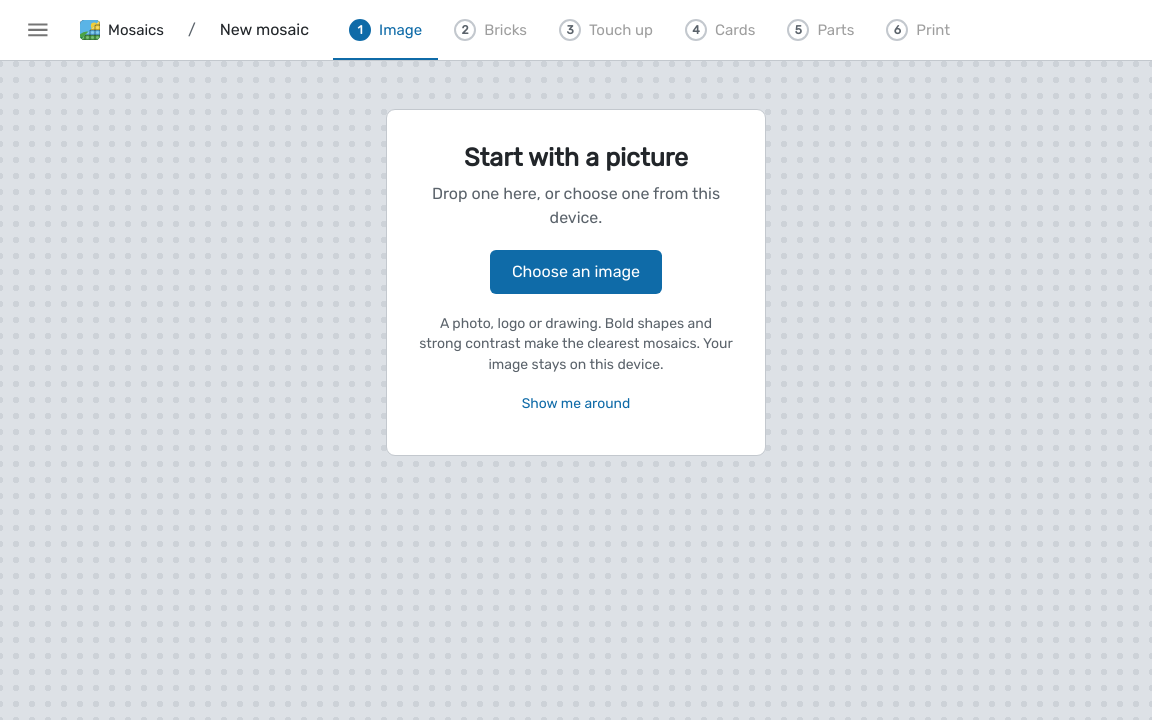
Test: Theme in ☰ › applies each choice at once, with no toast, and keeps the menu open to compare
The width and height of the screenshot is (1152, 720).
Click the button named "Menu": [38, 30] box [16,8,60,52]
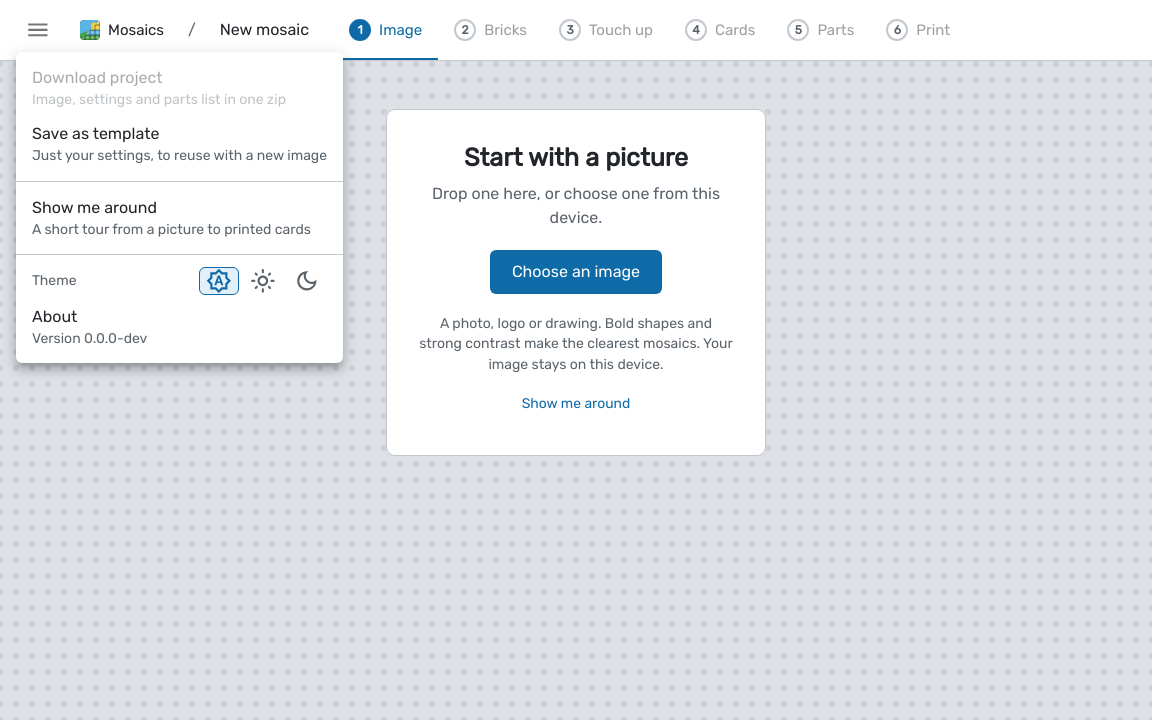
Click the menu item named "Dark": [307, 281] box [294,268,320,294]
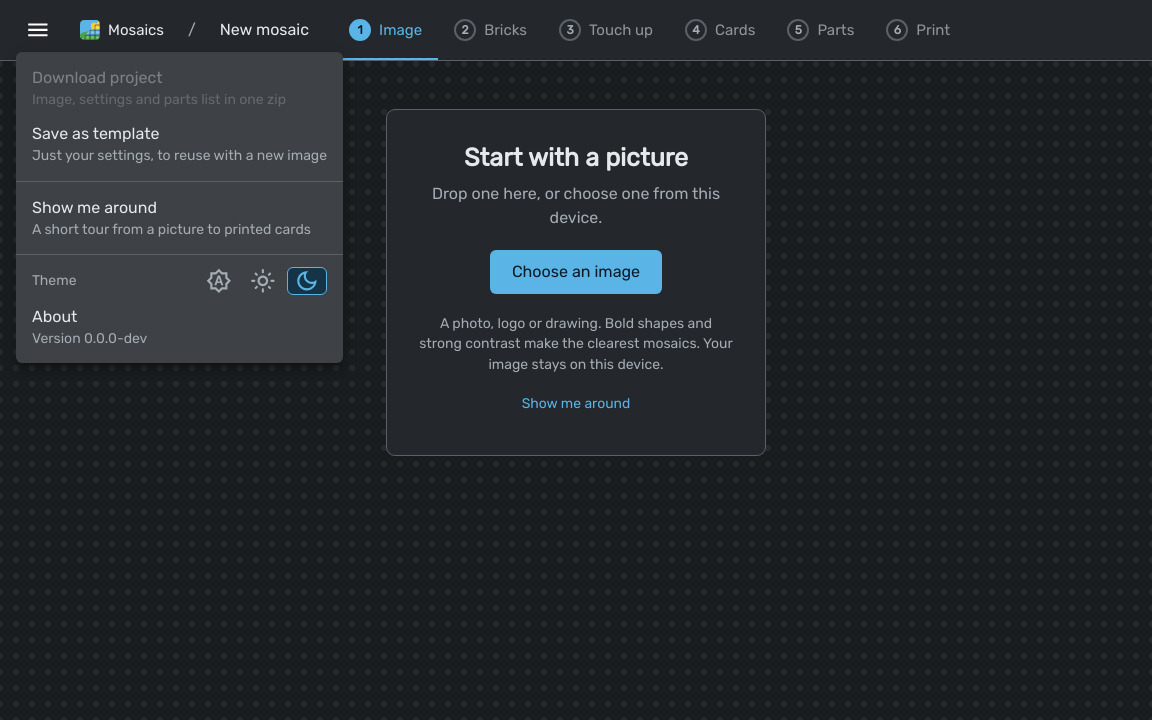
expect the menu is shown: met, box [16,52,343,363]
Click the menu item named "Light": [263, 281] box [250,268,276,294]
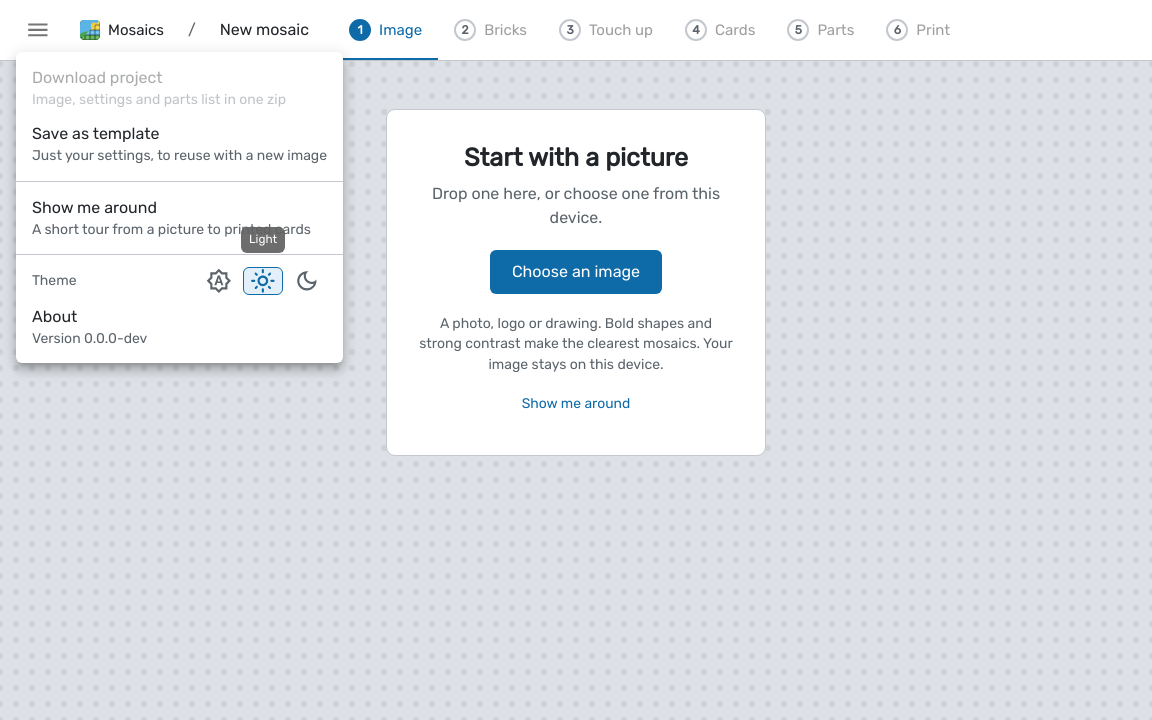
expect the menu item named "Light" is checked: met, box [243,267,283,295]
Click the menu item named "Auto": [219, 281] box [206,268,232,294]
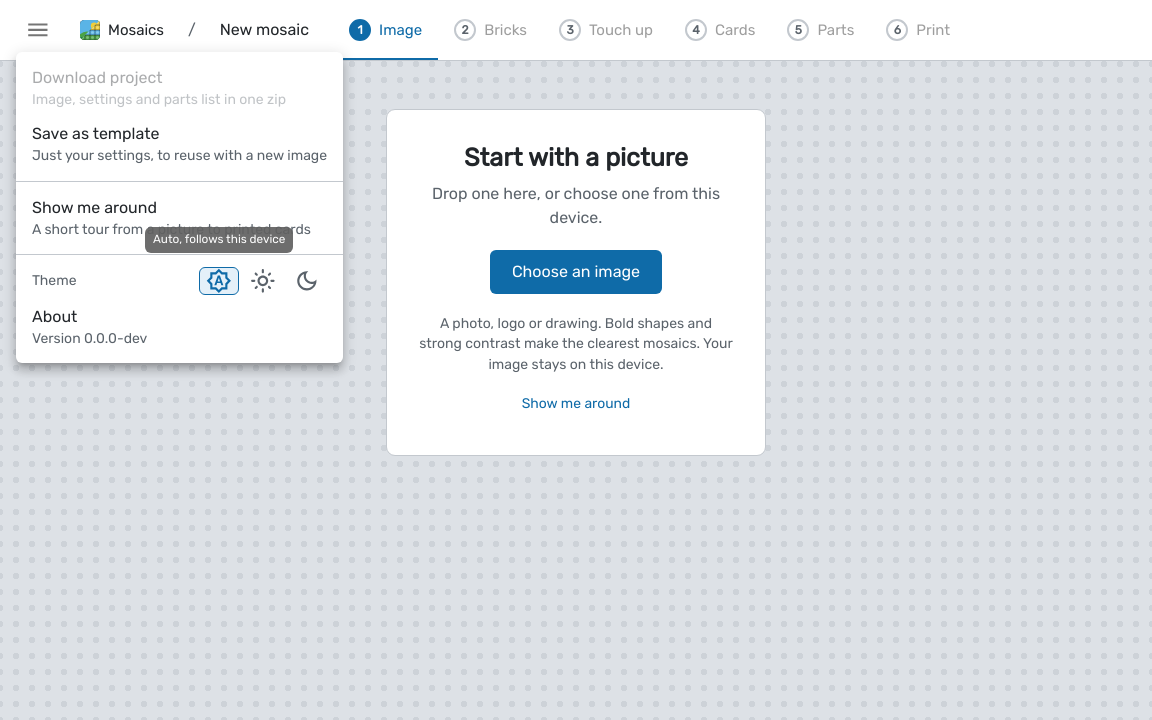
expect the menu item named "Auto" is checked: met, box [199,267,239,295]
